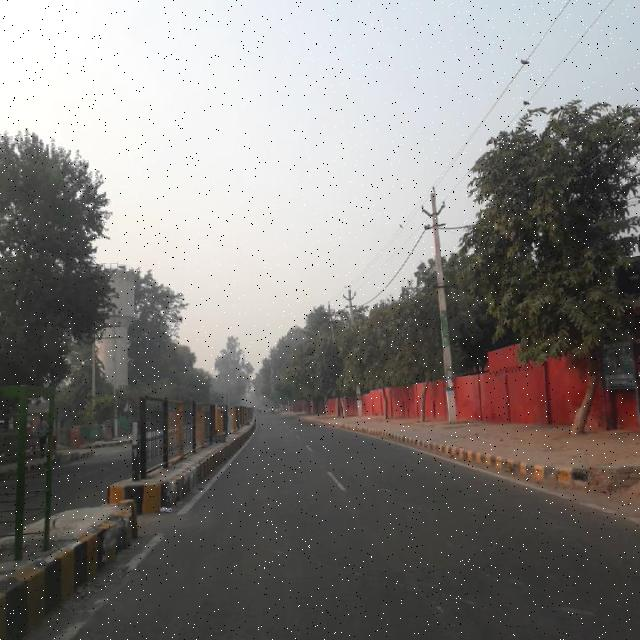D44: (76, 558, 144, 619)
